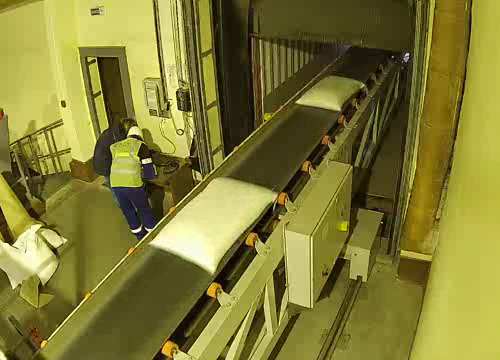bag: (143, 174, 288, 275), (291, 74, 373, 113)
